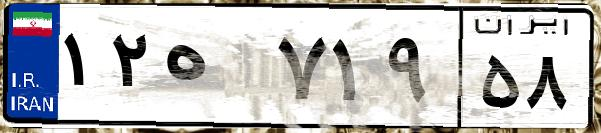1: (330, 28, 385, 110), (57, 26, 110, 100)
2: (110, 28, 158, 98)
5: (475, 38, 525, 113)
7: (270, 28, 330, 110)
8: (525, 38, 570, 115)
9: (385, 28, 445, 110)
ه: (158, 20, 270, 120)
